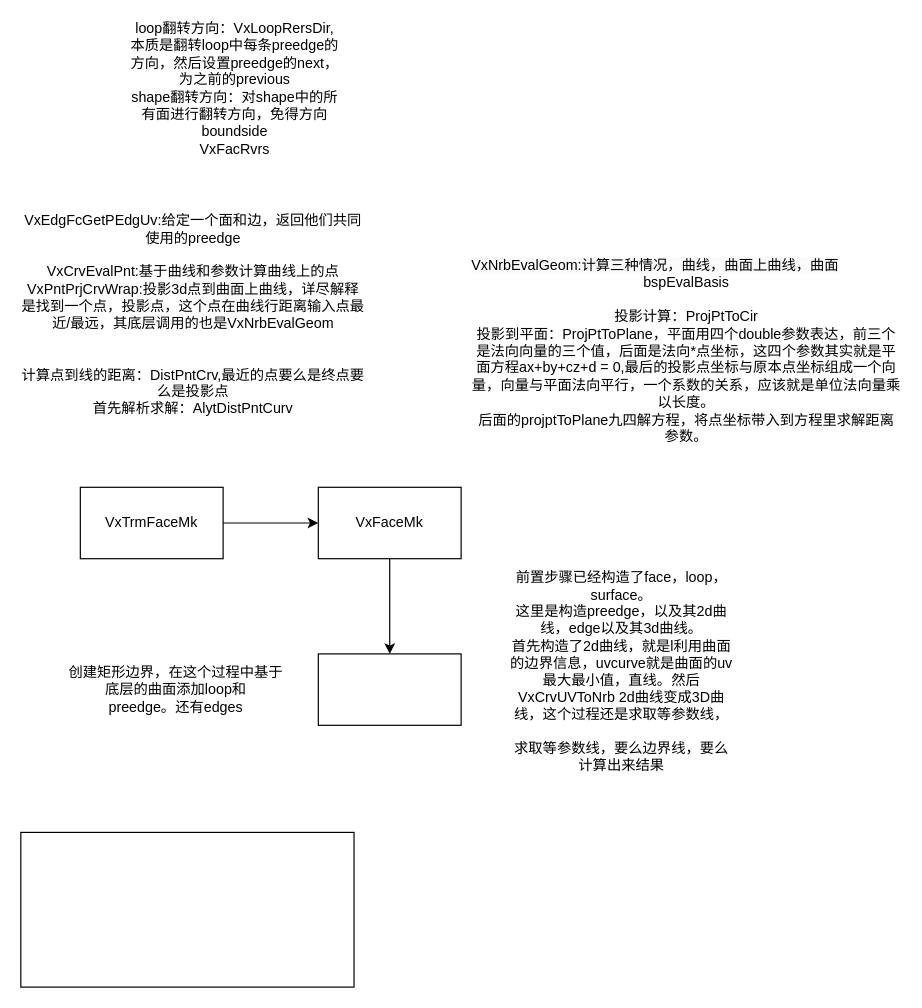
Some shapes in this 922 by 1008 pixel diagram are drawn without their labels. Each missing label, with the centre of its shape:
VxUnTrimSrfToLp: pixel 389 689
构建一个参数范围非0-1的曲线，直接裁剪一个线会改变控制点，可以用线分裂面，然后用分裂的边，这个好像是不变的: pixel 187 909
